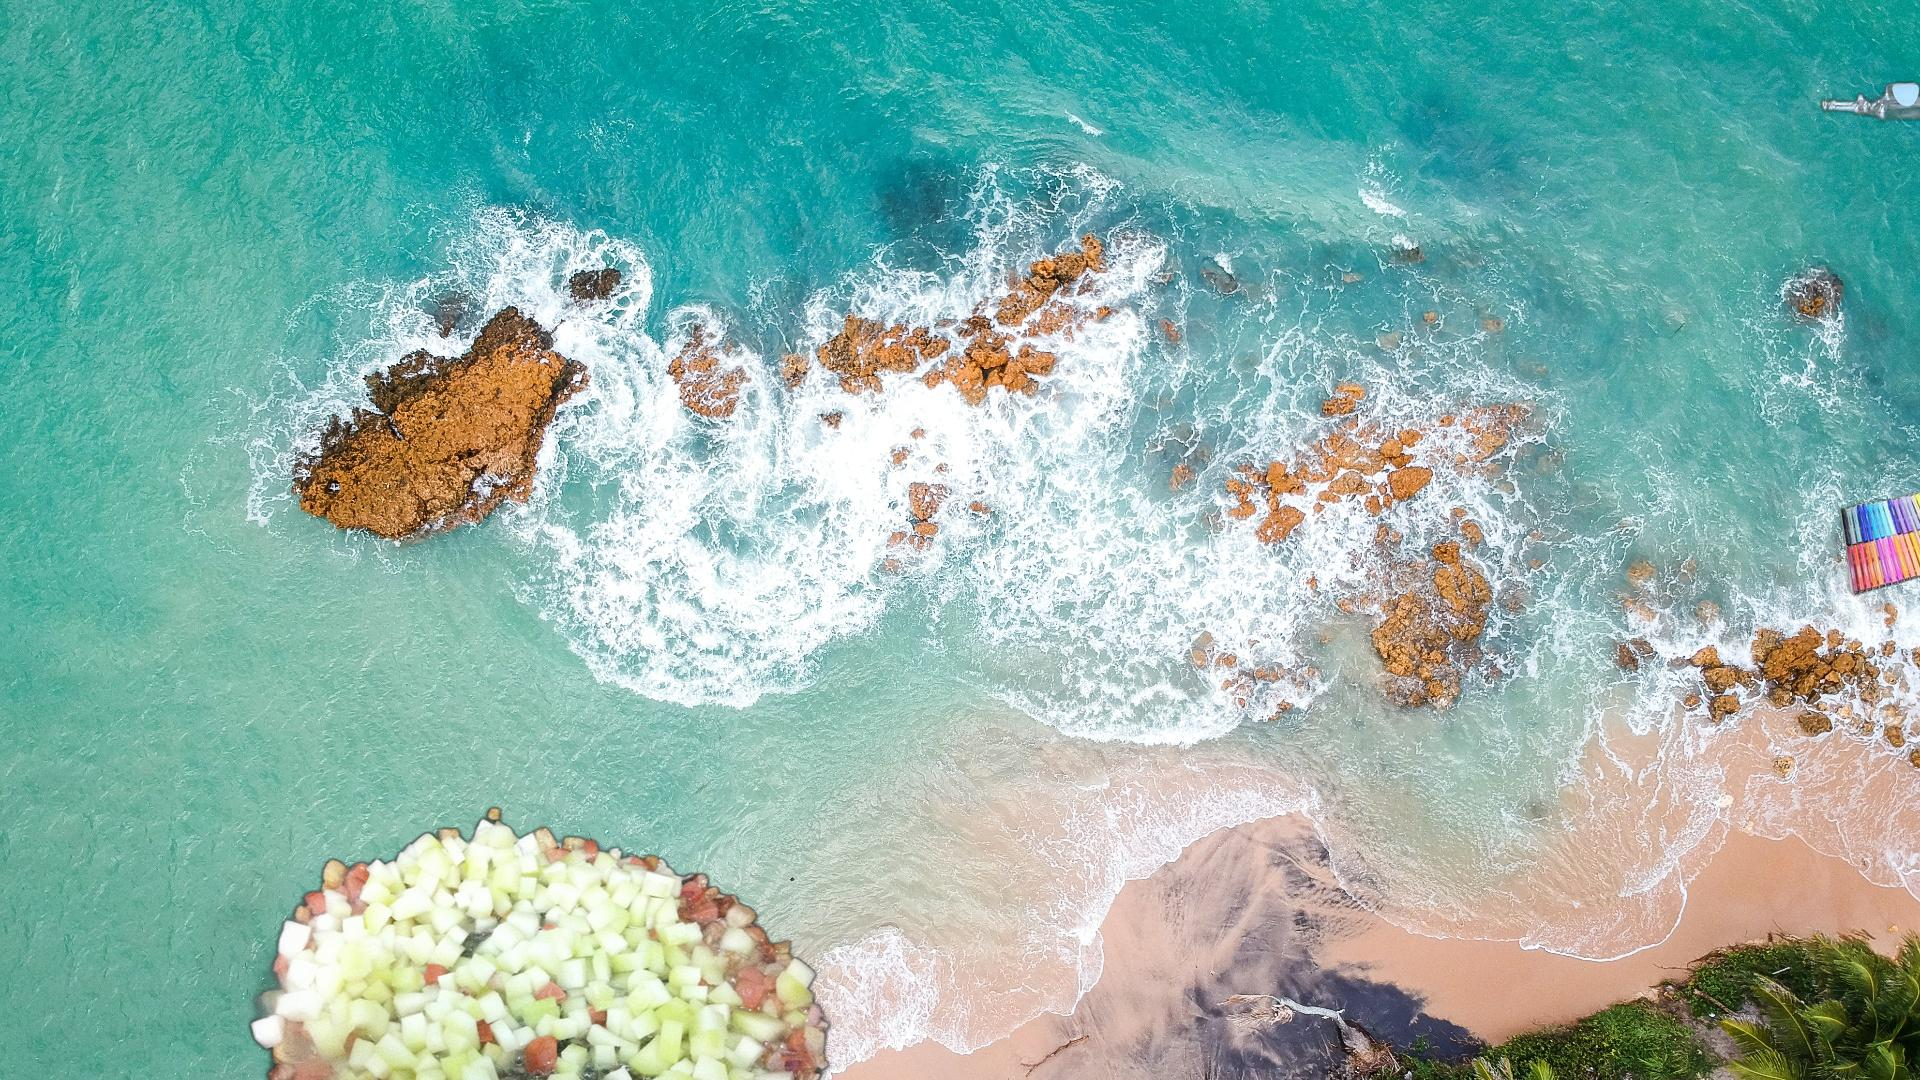biological: (144, 732, 837, 1080)
glass: (1817, 73, 1920, 500)
penholder: (1833, 479, 1920, 597)
